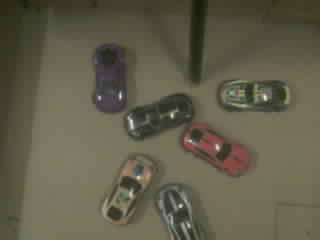Car: (181, 122, 248, 175), (103, 154, 154, 223), (125, 93, 194, 139), (156, 184, 202, 239), (219, 80, 289, 110), (95, 44, 126, 111)
